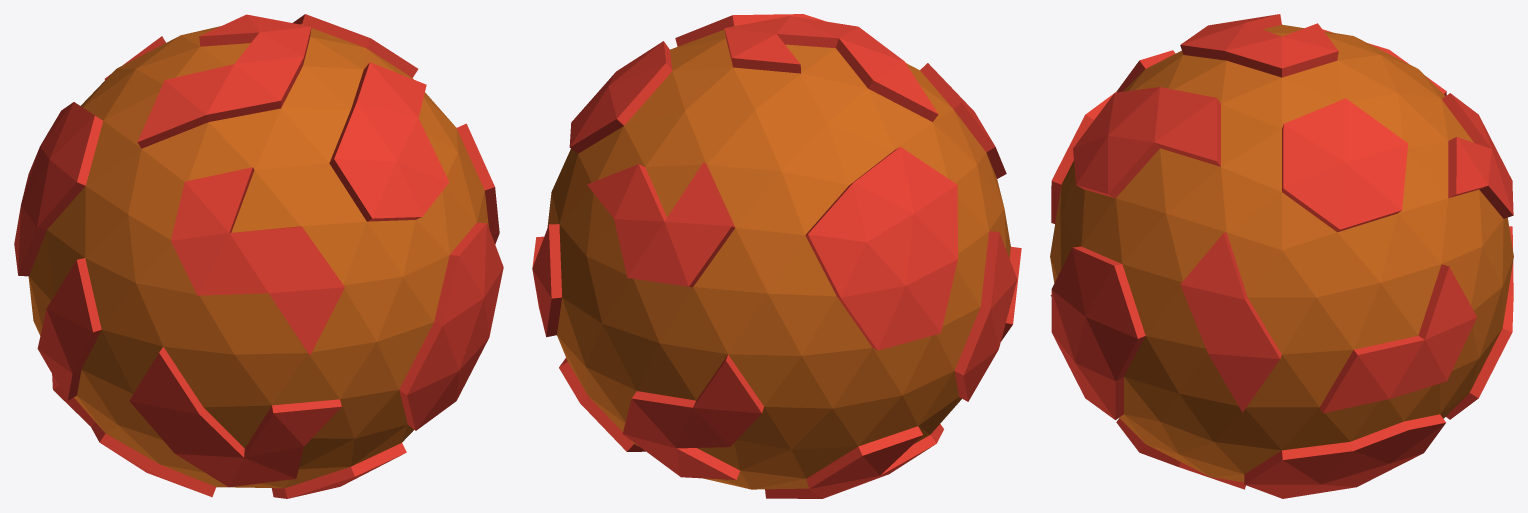
The model's file is MarsLowPoly.fbx.
The picture shows the model from 3 angles, left to right: view 1: azimuth 30°, elevation 25°; view 2: azimuth 150°, elevation 25°; view 3: azimuth 270°, elevation 25°; orthographic projection.
Parts seen in each view (by area): view 1: Icosphere; view 2: Icosphere; view 3: Icosphere.
Part boxes in pixels (<box>): Icosphere: <box>14,14,503,498</box>; Icosphere: <box>532,14,1021,498</box>; Icosphere: <box>1050,14,1513,498</box>.
Bounding box in the file's own units: 209 × 206 × 200.
